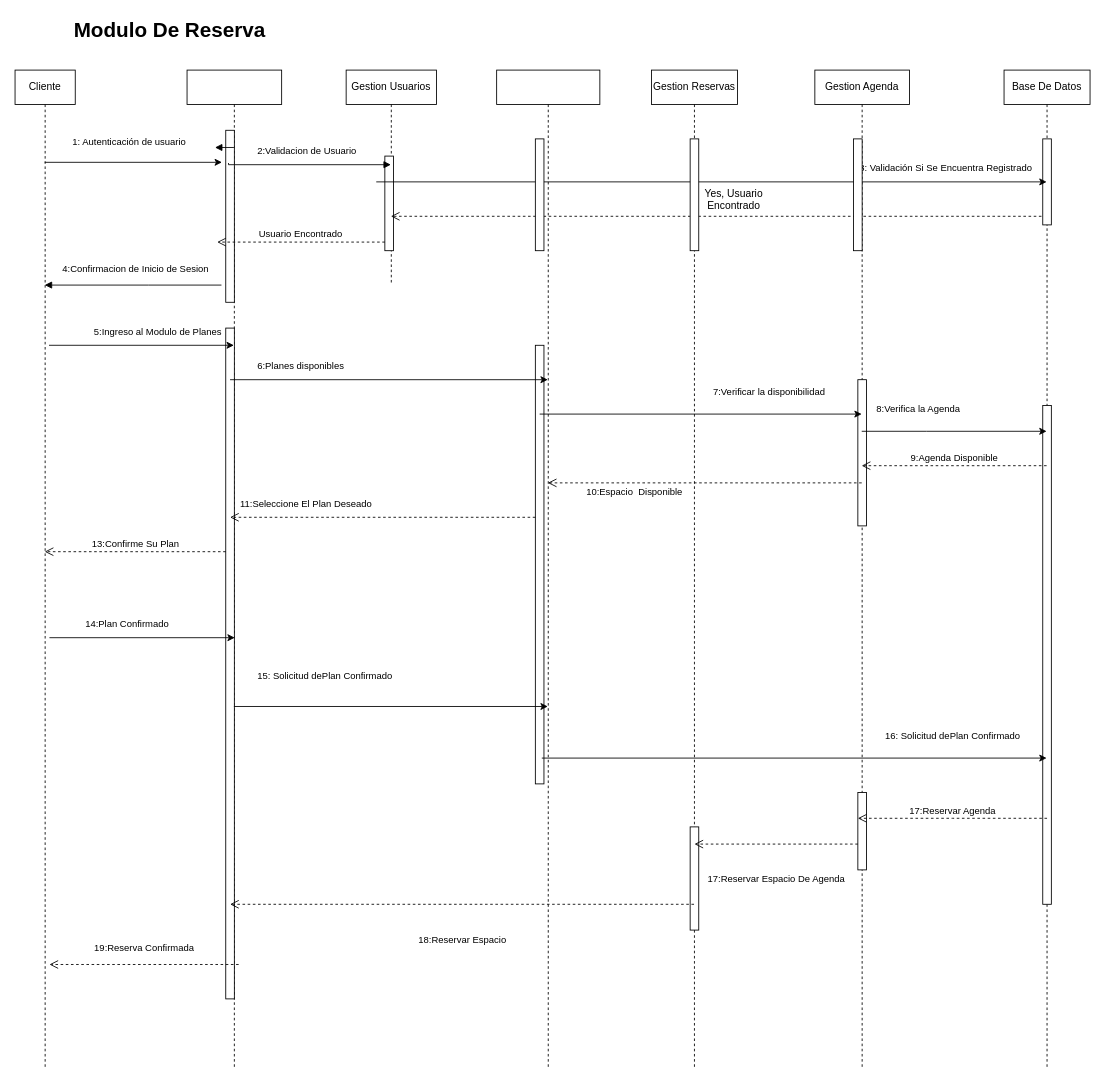
The diagram is 1105 pixels wide and 1083 high, and some of its shapes have lost their labels. The centre of each missing label's shape, as x and y in pixels:
"Interface" belongs at [234,568].
"Modulo de Planes" belongs at [548,568].
